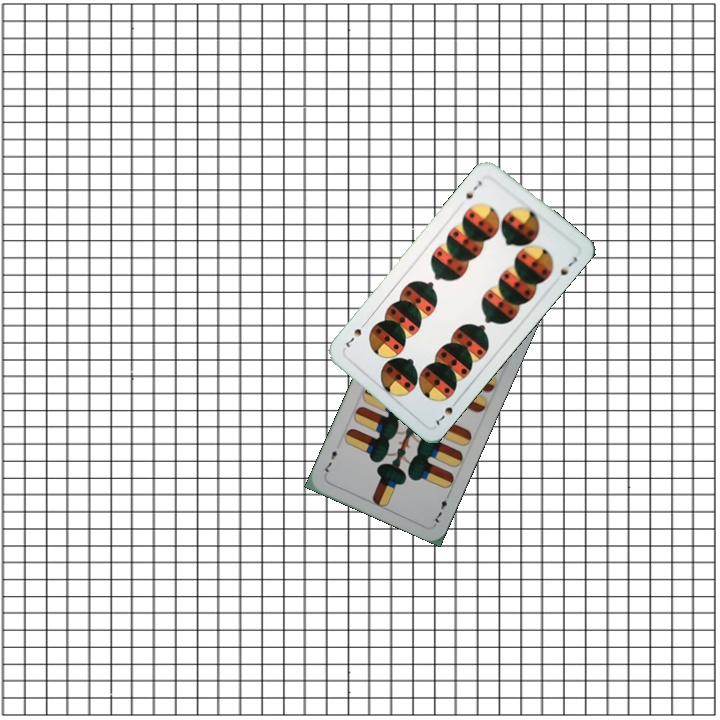E7: (429, 488, 453, 527)
S7: (431, 395, 461, 428), (462, 176, 485, 202)
